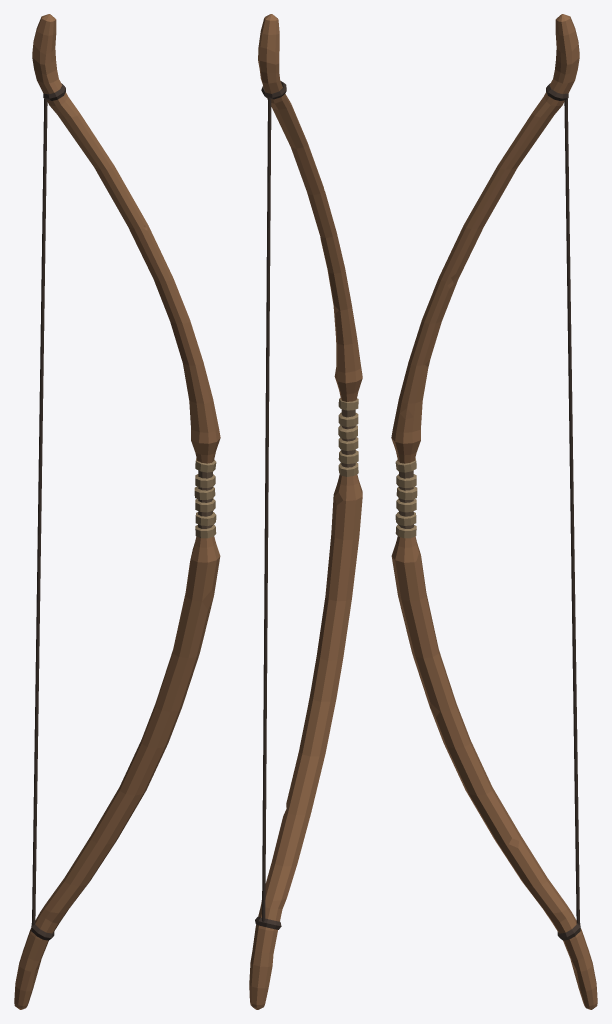
The model's file is Bow.fbx.
The picture shows the model from 3 angles, left to right: view 1: azimuth 90°, elevation 25°; view 2: azimuth 150°, elevation 25°; view 3: azimuth 270°, elevation 25°; orthographic projection.
Parts seen in each view (by area): view 1: Bow; view 2: Bow; view 3: Bow.
Boxes of the visible parts, bbox=[...] form: Bow: bbox=[14, 14, 220, 1009]; Bow: bbox=[249, 14, 362, 1009]; Bow: bbox=[391, 14, 597, 1009].
Size of the model in its own units: 0.0267 by 0.1844 by 0.9815.
